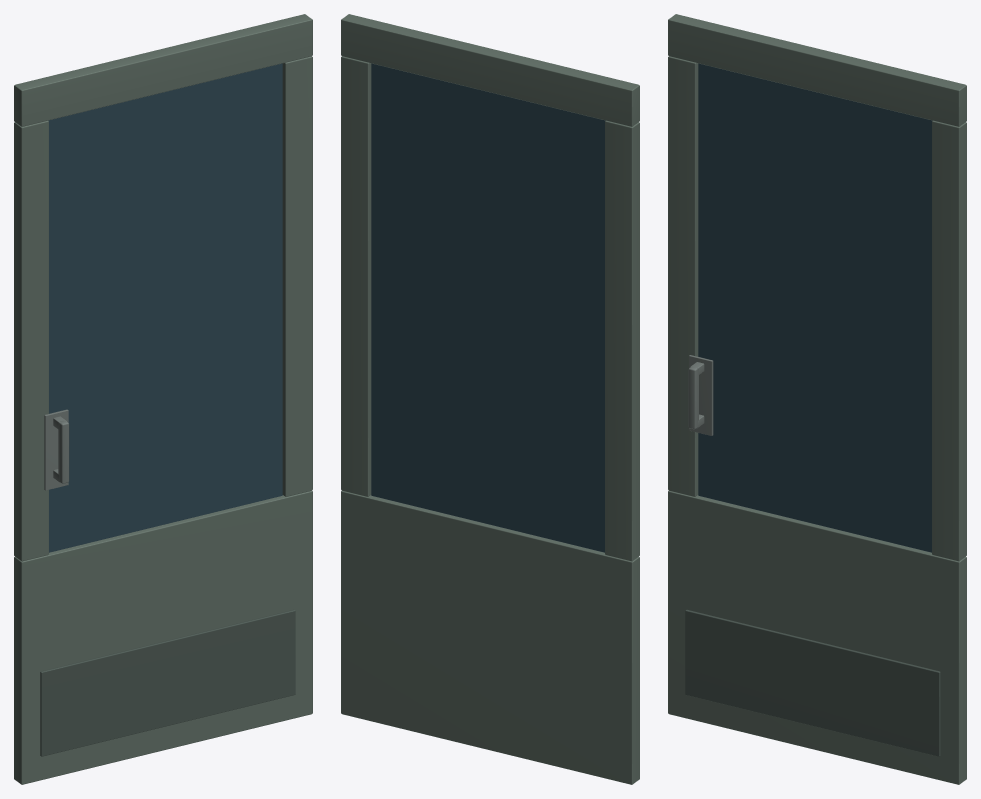
File: Diner_Exterior_Entrance_Door.fbx
3 renders of one model, left to right at view 1: azimuth 30°, elevation 25°; view 2: azimuth 150°, elevation 25°; view 3: azimuth 330°, elevation 25°, orthographic.
Visible parts, largest first — view 1: Entrance_Door; view 2: Entrance_Door; view 3: Entrance_Door.
Part boxes in pixels (box(x1,y1,x2,y2)): Entrance_Door: box(14, 14, 312, 784); Entrance_Door: box(341, 14, 639, 784); Entrance_Door: box(668, 14, 966, 784).
Size of the model in its own units: 0.938 by 2.13 by 0.102.
